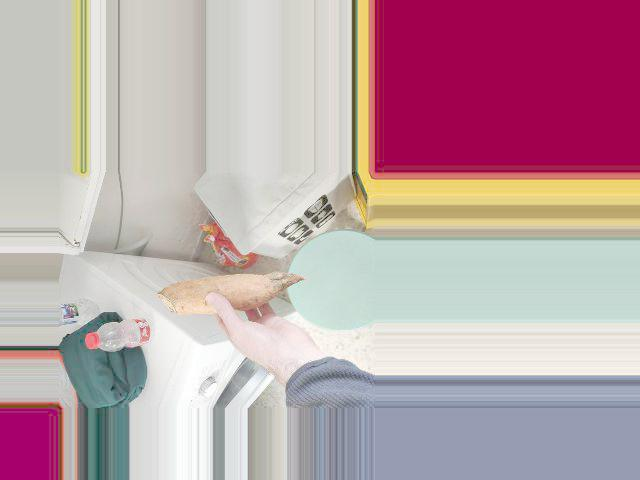sweet_potato: (152, 269, 312, 307)
